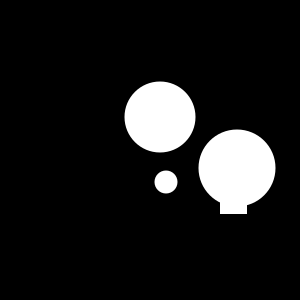circle: (220, 187, 247, 214)
rectangle: (199, 130, 276, 206), (124, 82, 195, 152), (154, 170, 178, 194)
